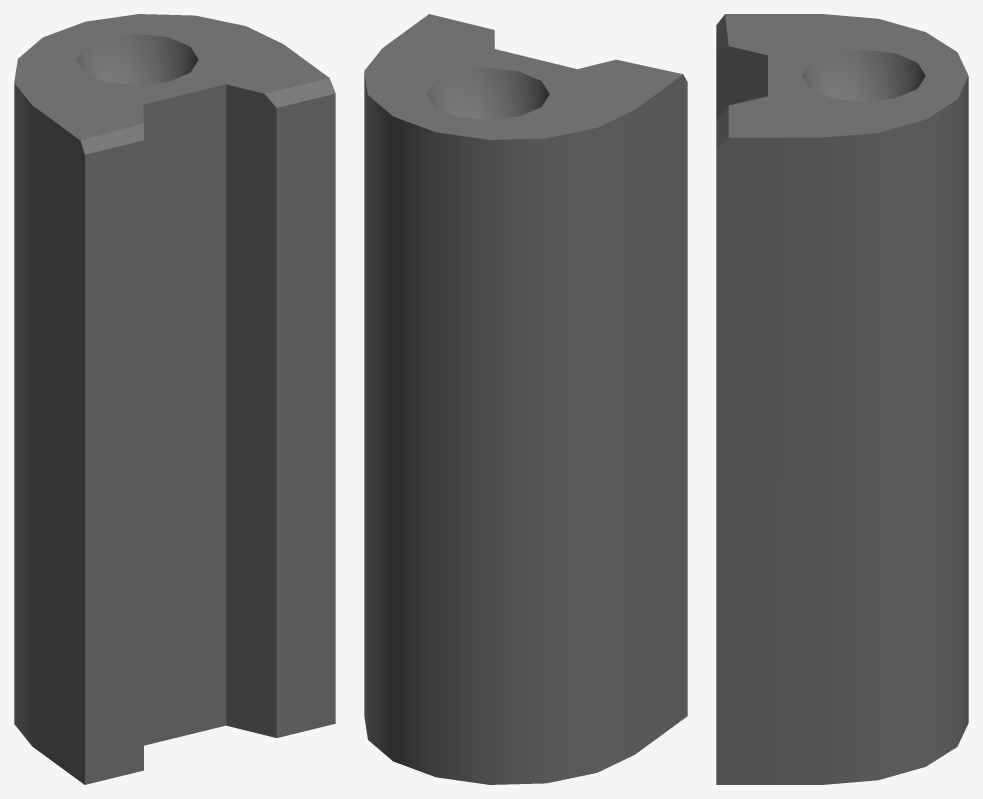
Rendered from space_station_006.fbx.
3 renders of one model, left to right at view 1: azimuth 30°, elevation 25°; view 2: azimuth 150°, elevation 25°; view 3: azimuth 270°, elevation 25°, orthographic.
Parts seen in each view (by area): view 1: space_station_006; view 2: space_station_006; view 3: space_station_006.
Part boxes in pixels (x1,y1,x2,y2): space_station_006: (14,14,335,784); space_station_006: (364,14,687,784); space_station_006: (716,14,968,784).
Bounding box in the file's own units: 1610 × 1388 × 3930.
